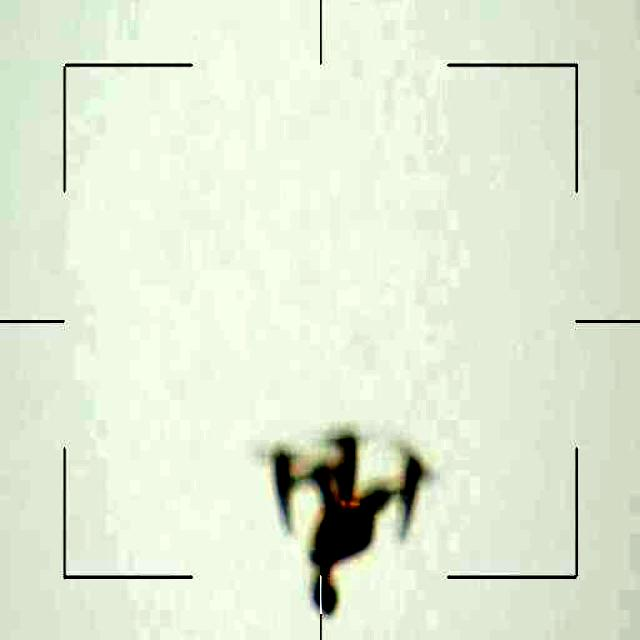bird: (266, 416, 440, 619)
